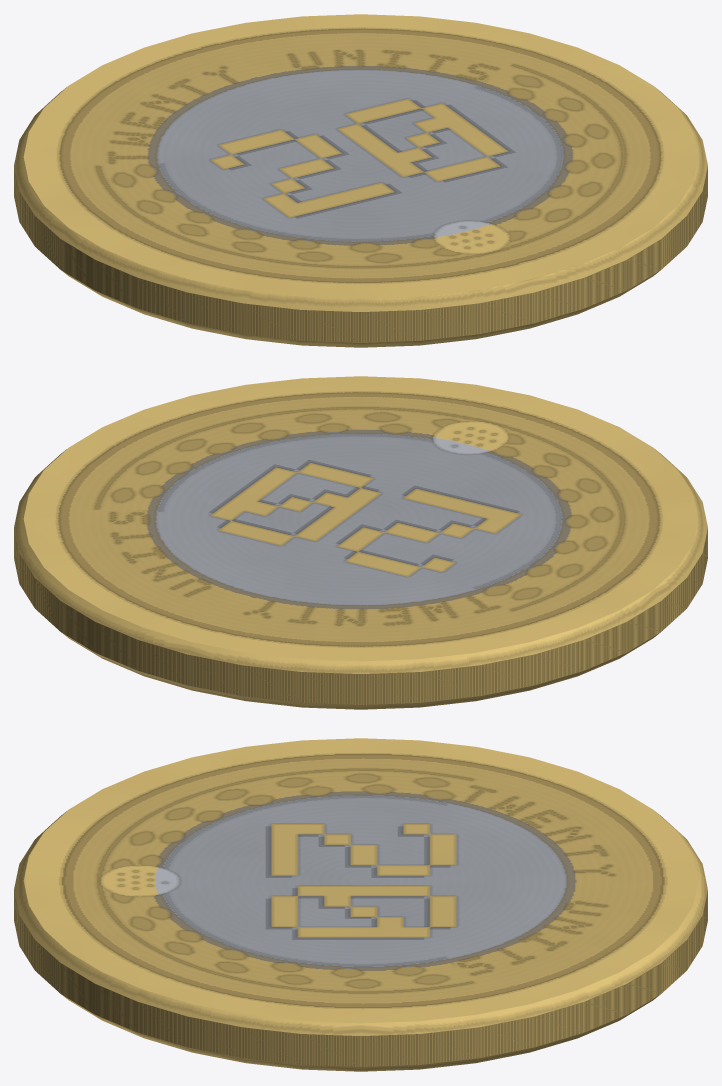
The model's file is cash_coin_20.glb.
3 renders of one model, top to bottom at view 1: azimuth 30°, elevation 25°; view 2: azimuth 150°, elevation 25°; view 3: azimuth 270°, elevation 25°, orthographic.
Visible parts, largest first — view 1: Coin_Body; view 2: Coin_Body; view 3: Coin_Body.
Boxes of the visible parts, left/top/right/bottom form: Coin_Body: left=14, top=14, right=707, bottom=347; Coin_Body: left=14, top=376, right=707, bottom=709; Coin_Body: left=14, top=738, right=707, bottom=1071.
Bounding box in the file's own units: 0.026 × 0.002 × 0.026.
Materials: 1 (1 with a texture image).
